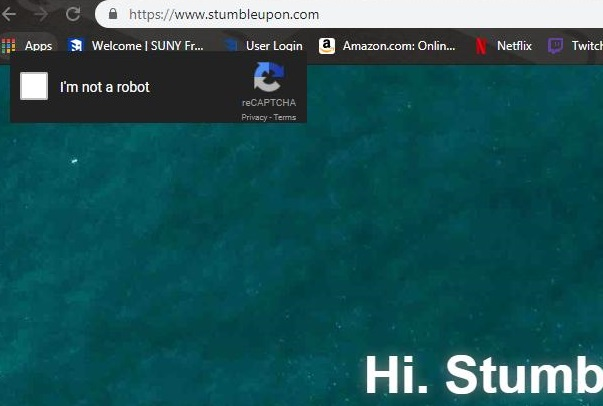captcha: (20, 71, 151, 100)
